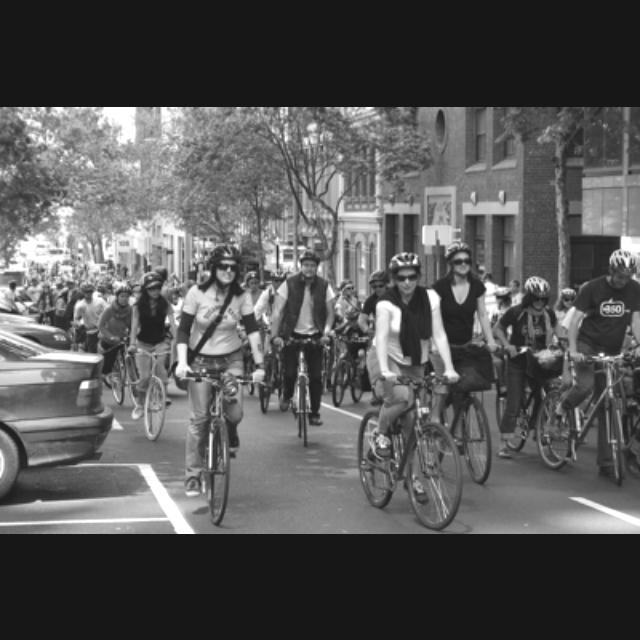With Helmet: (381, 248, 427, 300), (205, 237, 245, 291), (520, 271, 554, 313), (444, 241, 481, 279), (134, 267, 170, 301), (299, 242, 325, 284)
